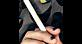Cigarette: (23, 0, 46, 31)
